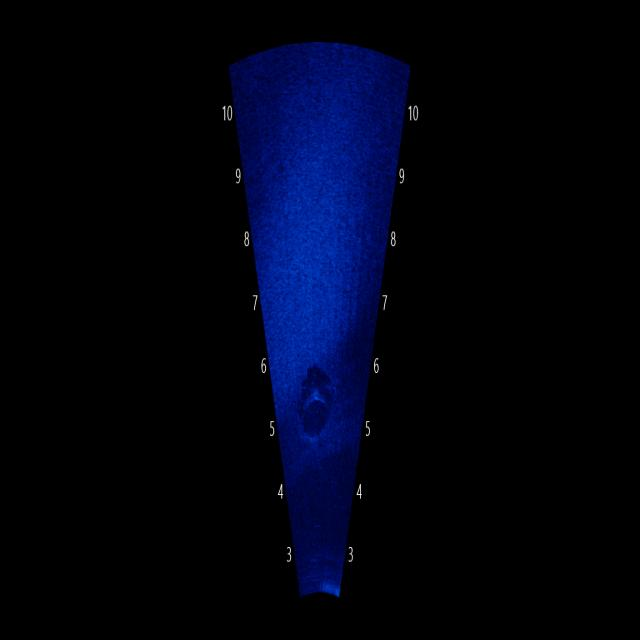circle: (296, 377, 338, 446)
